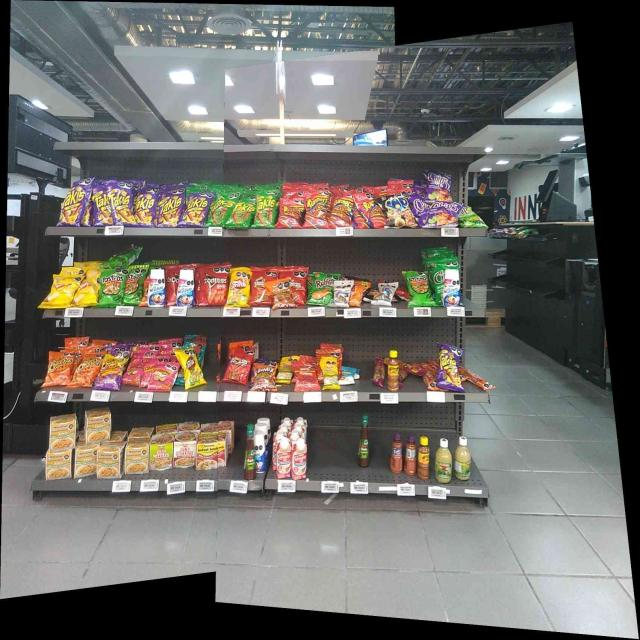bitzAlmendras: (340, 367, 354, 386)
bitzEnchilado90: (296, 364, 316, 391)
bitzEnchilado95: (463, 368, 491, 390)
bitzHabanero: (374, 356, 384, 386), (402, 362, 424, 375)
botaneraChilito: (388, 350, 399, 392), (418, 436, 429, 478)
cheetosFlaminHot: (103, 354, 121, 389)
cheetosOriginal: (48, 354, 70, 384), (76, 356, 96, 385)
chipsFuego: (414, 197, 448, 226), (426, 169, 451, 196)
chipsPapatinas: (460, 207, 480, 227)
churrumais: (152, 362, 174, 391), (128, 359, 142, 384), (144, 356, 152, 386)
delPrimoSalsa: (435, 439, 452, 482), (454, 436, 470, 480)
doritosNacho: (200, 268, 226, 304)
fritosLimon: (179, 348, 202, 385), (229, 271, 248, 306)
hotNutsOriginal: (350, 282, 364, 306)
leoCacahuates: (376, 282, 394, 305), (334, 282, 349, 306)
leoMix: (254, 362, 275, 390), (270, 280, 291, 307)
maruchanPollo: (98, 444, 124, 478), (50, 415, 74, 448), (85, 411, 110, 441), (126, 441, 148, 473), (45, 453, 72, 477), (76, 446, 95, 476)
maruchanRes: (198, 434, 218, 468)
nestleCarnation: (292, 440, 307, 479), (276, 439, 291, 477)
nestleLechera: (443, 269, 460, 306), (179, 270, 195, 307), (150, 269, 165, 307), (256, 431, 265, 473)
nissinCamaron: (150, 436, 172, 470)
nissinRes: (173, 435, 196, 466)
popKarameladas: (384, 195, 411, 226)
rancheritos: (228, 350, 250, 382), (250, 270, 269, 304), (292, 270, 307, 304)
rufflesQueso: (312, 272, 332, 304)
runners: (305, 192, 328, 229), (357, 195, 382, 227), (332, 194, 351, 227), (279, 199, 300, 227)
sabritasOriginal: (47, 276, 74, 306), (79, 278, 97, 306)
salsaBufalo: (244, 424, 255, 480), (358, 414, 369, 468)
semillasCalabaza: (322, 358, 337, 388), (280, 360, 292, 383)
tajinDulce: (405, 434, 417, 475), (390, 432, 402, 473)
takisFuego: (438, 342, 461, 390), (61, 183, 83, 227), (112, 182, 132, 225), (159, 188, 179, 226), (92, 182, 109, 225), (136, 188, 154, 225), (184, 194, 204, 226)
takisOriginal: (256, 190, 273, 226), (233, 196, 252, 226), (210, 194, 228, 224)
tostitos: (100, 268, 124, 304), (408, 271, 430, 306), (126, 268, 143, 304)
